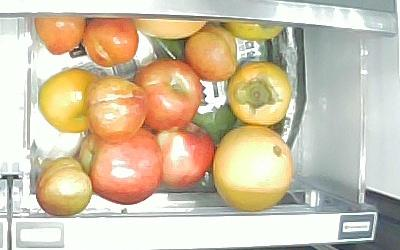apple: (76, 129, 165, 205), (132, 59, 203, 131), (151, 122, 217, 188)
grapefruit: (213, 123, 293, 212), (134, 16, 211, 40)
persimmon: (228, 61, 292, 125), (39, 68, 99, 133)
prune: (88, 75, 146, 142), (34, 156, 94, 217), (183, 24, 238, 81), (84, 16, 139, 67), (34, 14, 86, 56)
